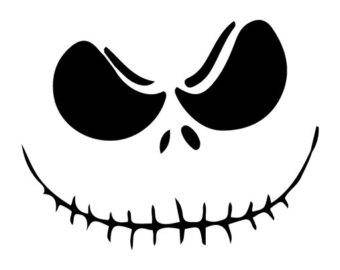Jack Skellington: (22, 14, 323, 250)
